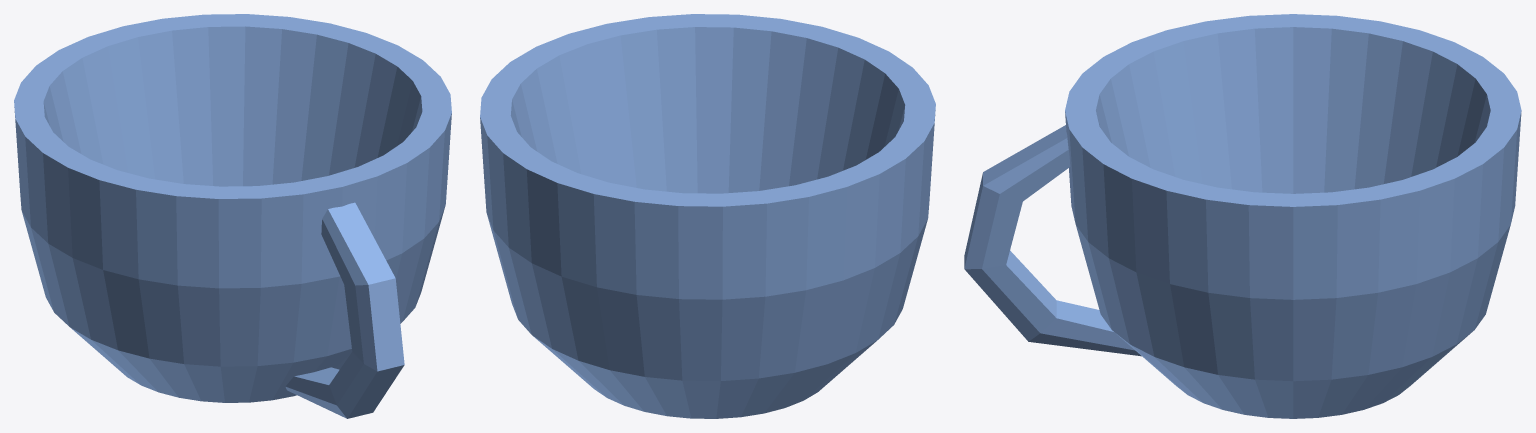
File: coffee cup.fbx
The picture shows the model from 3 angles, left to right: view 1: azimuth 30°, elevation 25°; view 2: azimuth 150°, elevation 25°; view 3: azimuth 270°, elevation 25°; orthographic projection. The views are drawn at different scales.
Visible parts, largest first — view 1: Cylinder, handle; view 2: Cylinder; view 3: Cylinder, handle.
Part boxes in pixels (x1,y1,x2,y2): Cylinder: [14, 14, 451, 402]; handle: [285, 202, 404, 418]; Cylinder: [480, 14, 935, 418]; Cylinder: [1065, 14, 1521, 418]; handle: [964, 125, 1141, 356].
Bounding box in the file's own units: 75.4 × 46.44 × 92.01.
